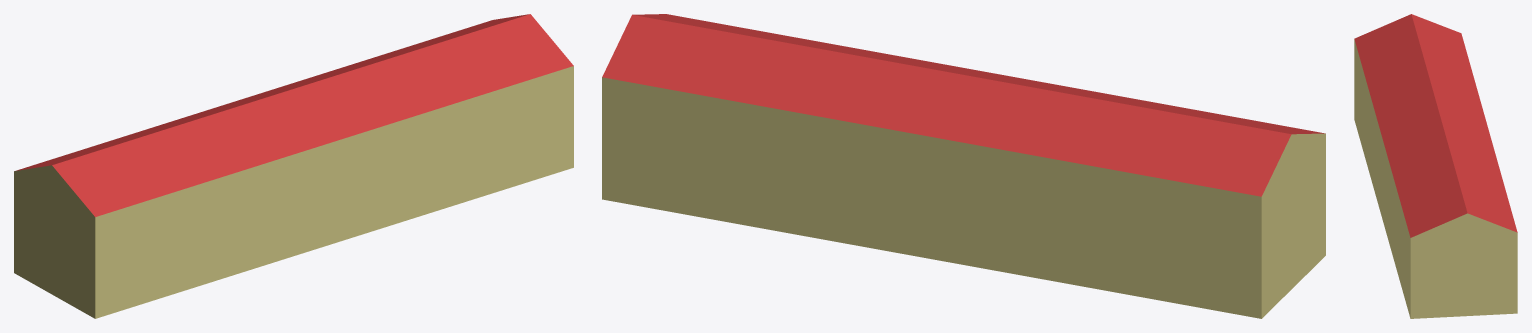
3 renders of one model, left to right at view 1: azimuth 30°, elevation 25°; view 2: azimuth 150°, elevation 25°; view 3: azimuth 270°, elevation 25°, orthographic. The views are drawn at different scales.
Size of the model in its own units: 25.56 by 8.61 by 5.98.
